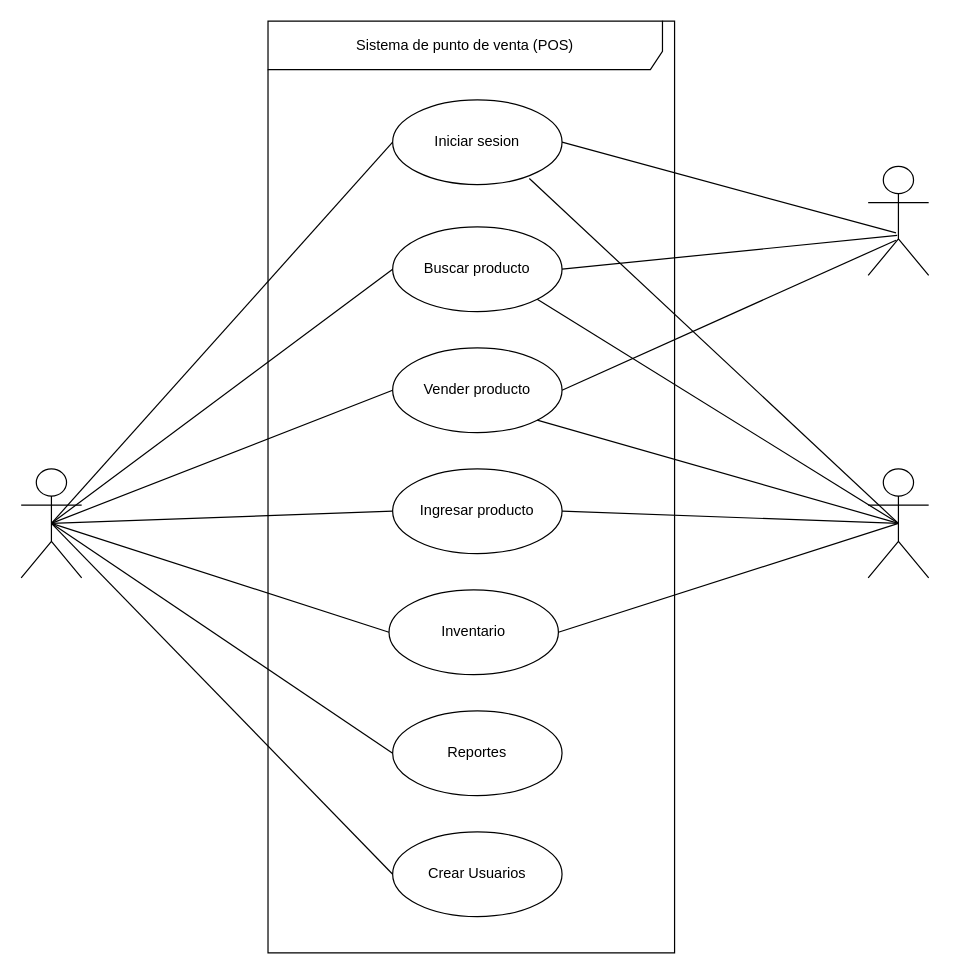
Some shapes in this 964 by 974 pixel diagram are drawn without their labels. Here are the shapes that lost their labels. From the top down, the centre of each, then its label:
At point (898, 220): "Vendedor".
At point (51, 523): "Gerente".
At point (898, 523): "Administrador".
